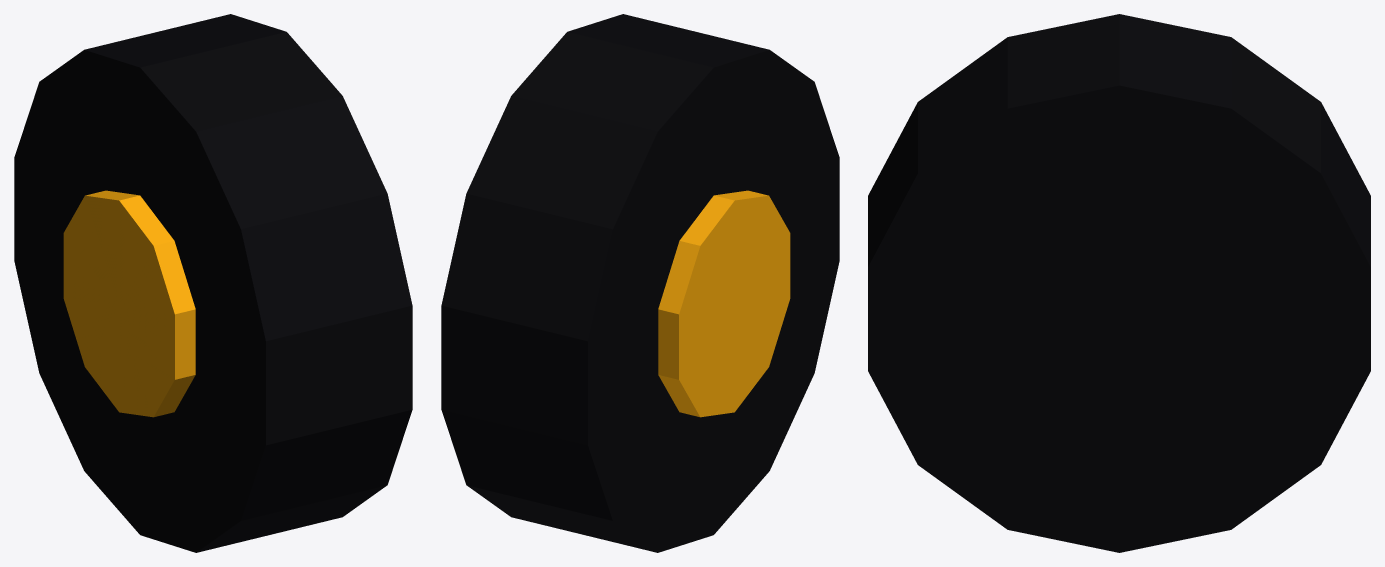
The model's file is Wheel_RL.obj.
3 views of the same model, side by side, from view 1: azimuth 30°, elevation 25°; view 2: azimuth 150°, elevation 25°; view 3: azimuth 270°, elevation 25° (orthographic).
Parts seen in each view (by area): view 1: Wheel_RL; view 2: Wheel_RL; view 3: Wheel_RL.
Part boxes in pixels (x1=…): Wheel_RL: x1=14, y1=14, x2=412, y2=552; Wheel_RL: x1=441, y1=14, x2=839, y2=552; Wheel_RL: x1=868, y1=14, x2=1370, y2=552.
Bounding box in the file's own units: 0.48 × 1.28 × 1.25.
